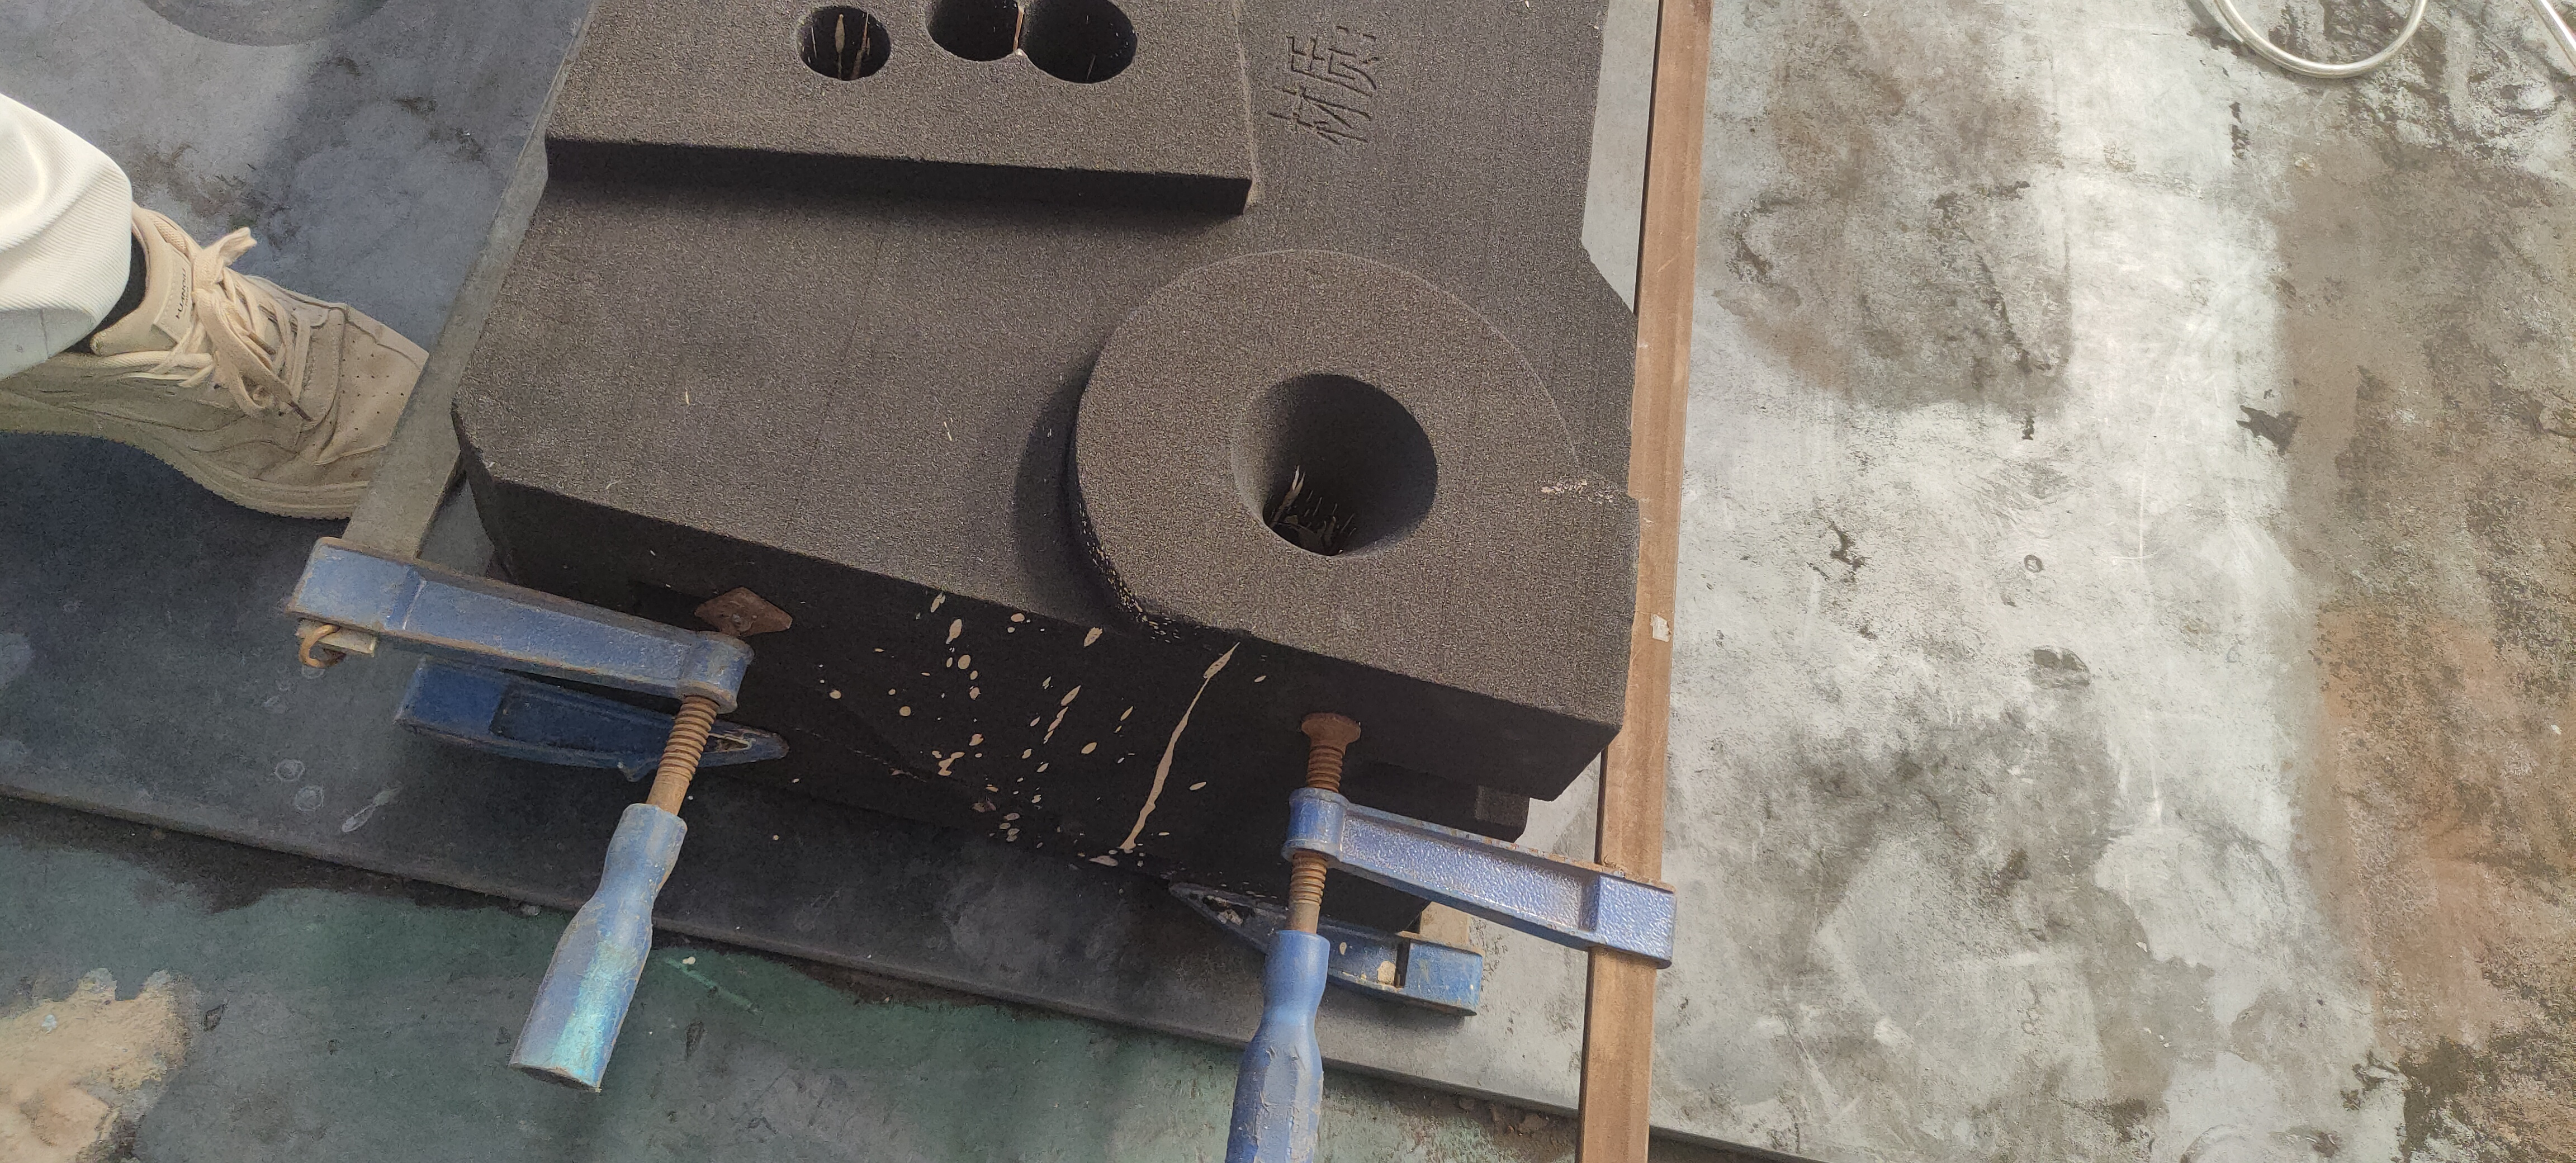pouring hole: (1227, 370, 1439, 560)
